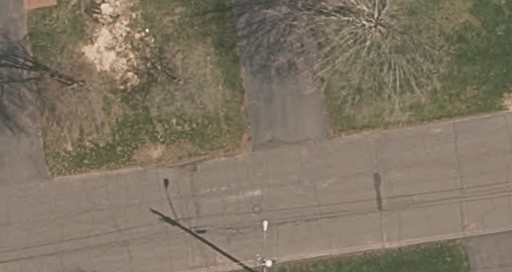DT: (257, 255, 281, 271)
